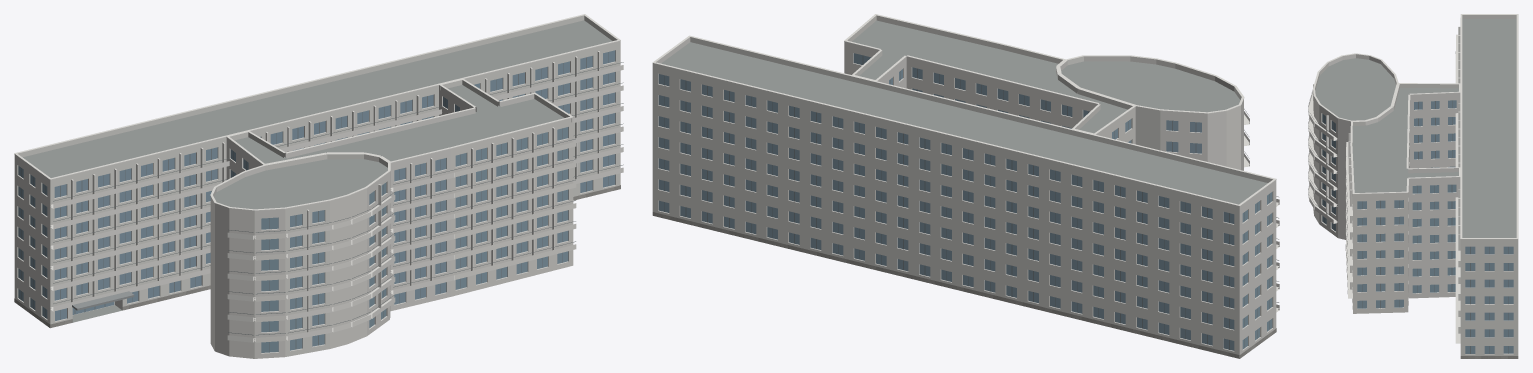
3 renders of one model, left to right at view 1: azimuth 30°, elevation 25°; view 2: azimuth 150°, elevation 25°; view 3: azimuth 270°, elevation 25°, orthographic. The views are drawn at different scales.
Parts seen in each view (by area): view 1: dormitory__wall, dormitory__trim, dormitory__roof, dormitory__glass, dormitory__parapet, dormitory__frame, dormitory__base; view 2: dormitory__wall, dormitory__roof, dormitory__glass, dormitory__parapet, dormitory__trim, dormitory__base, dormitory__frame; view 3: dormitory__roof, dormitory__wall, dormitory__trim, dormitory__glass, dormitory__parapet, dormitory__frame.
Boxes of the visible parts, bbox=[...] form: dormitory__wall: bbox=[14, 45, 620, 358]; dormitory__trim: bbox=[14, 14, 623, 342]; dormitory__roof: bbox=[23, 20, 612, 322]; dormitory__glass: bbox=[18, 50, 615, 352]; dormitory__parapet: bbox=[14, 15, 620, 215]; dormitory__frame: bbox=[21, 52, 623, 352]; dormitory__base: bbox=[14, 185, 620, 327]; dormitory__wall: bbox=[652, 46, 1276, 358]; dormitory__roof: bbox=[661, 20, 1267, 204]; dormitory__glass: bbox=[658, 53, 1272, 350]; dormitory__parapet: bbox=[652, 15, 1276, 210]; dormitory__trim: bbox=[652, 14, 1279, 312]; dormitory__base: bbox=[652, 212, 1276, 358]; dormitory__frame: bbox=[664, 55, 1278, 349]; dormitory__roof: bbox=[1315, 19, 1516, 237]; dormitory__wall: bbox=[1313, 94, 1518, 355]; dormitory__trim: bbox=[1308, 14, 1518, 343]; dormitory__glass: bbox=[1322, 100, 1513, 353]; dormitory__parapet: bbox=[1313, 15, 1518, 242]; dormitory__frame: bbox=[1309, 100, 1508, 353].
Bounding box in the file's own units: 96.04 × 23.92 × 37.96.
9 materials, 1 textured.
